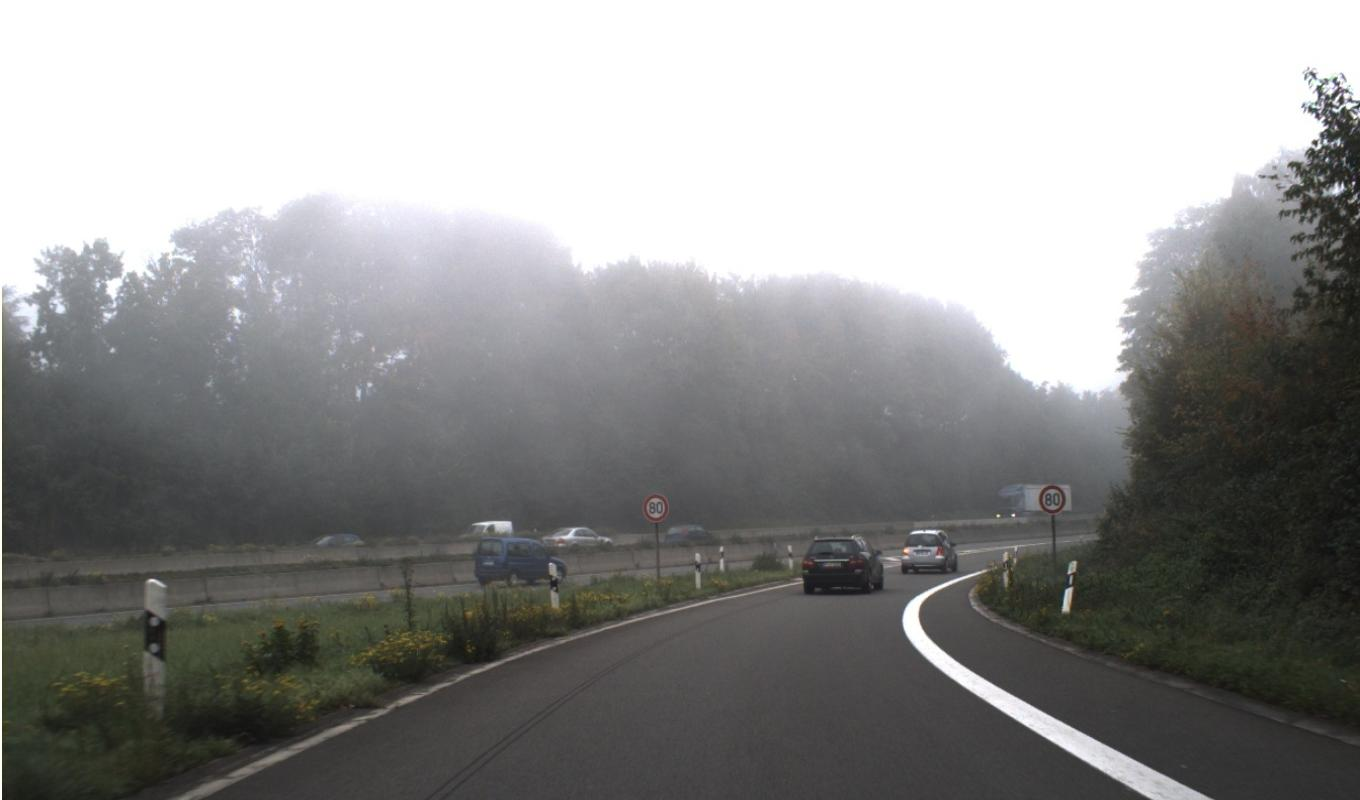NO-speed limit 80: (642, 482, 1067, 522)
